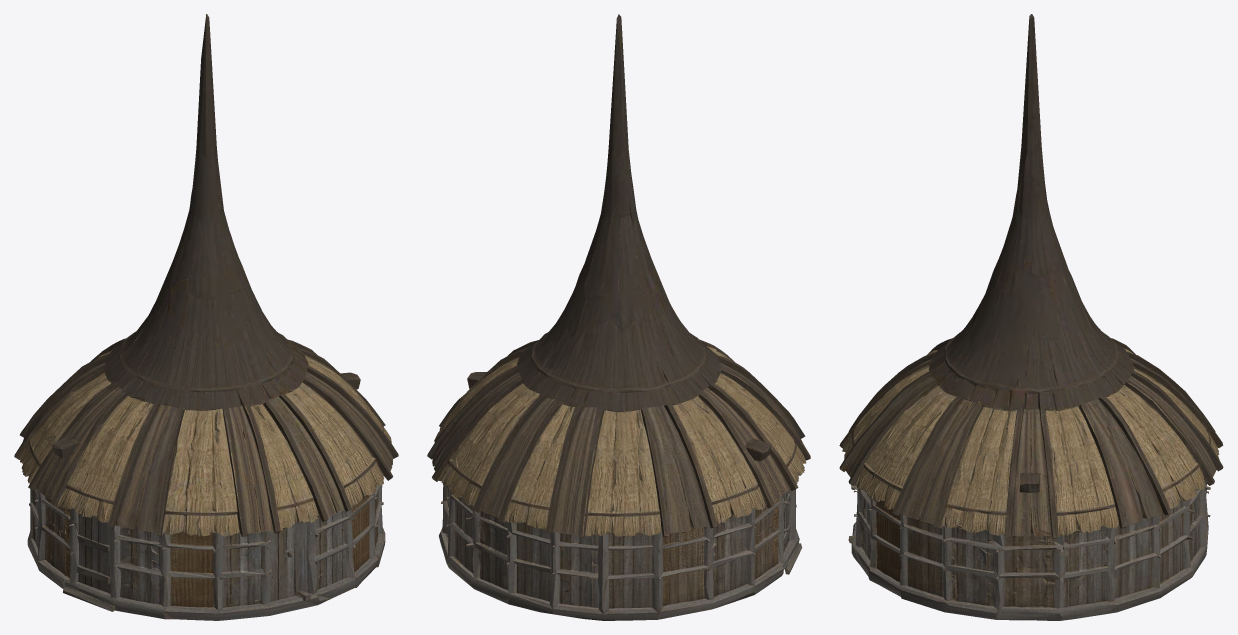
The model's file is stilthut.glb.
The picture shows the model from 3 angles, left to right: view 1: azimuth 30°, elevation 25°; view 2: azimuth 150°, elevation 25°; view 3: azimuth 270°, elevation 25°; orthographic projection.
Visible parts, largest first — view 1: stilthut-centred; view 2: stilthut-centred; view 3: stilthut-centred.
Boxes of the visible parts, x1,y1,x2,y2 form: stilthut-centred: (14, 14, 398, 620); stilthut-centred: (427, 14, 810, 620); stilthut-centred: (839, 14, 1223, 620).
Size of the model in its own units: 5.9 by 9 by 5.88.
Materials: 1 (1 with a texture image).
